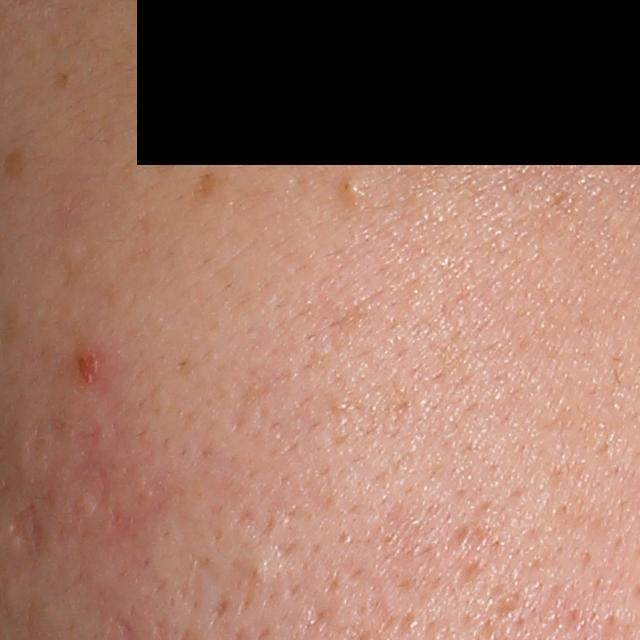atrophic_scar: (17, 409, 102, 526), (8, 498, 42, 553)
comedo: (337, 175, 365, 202)
melasma: (188, 171, 219, 208), (1, 142, 27, 182), (53, 68, 72, 90)
papule: (72, 342, 105, 386)
